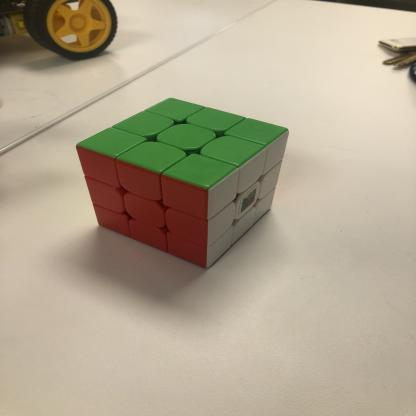SolvedCube: (74, 90, 296, 274)
